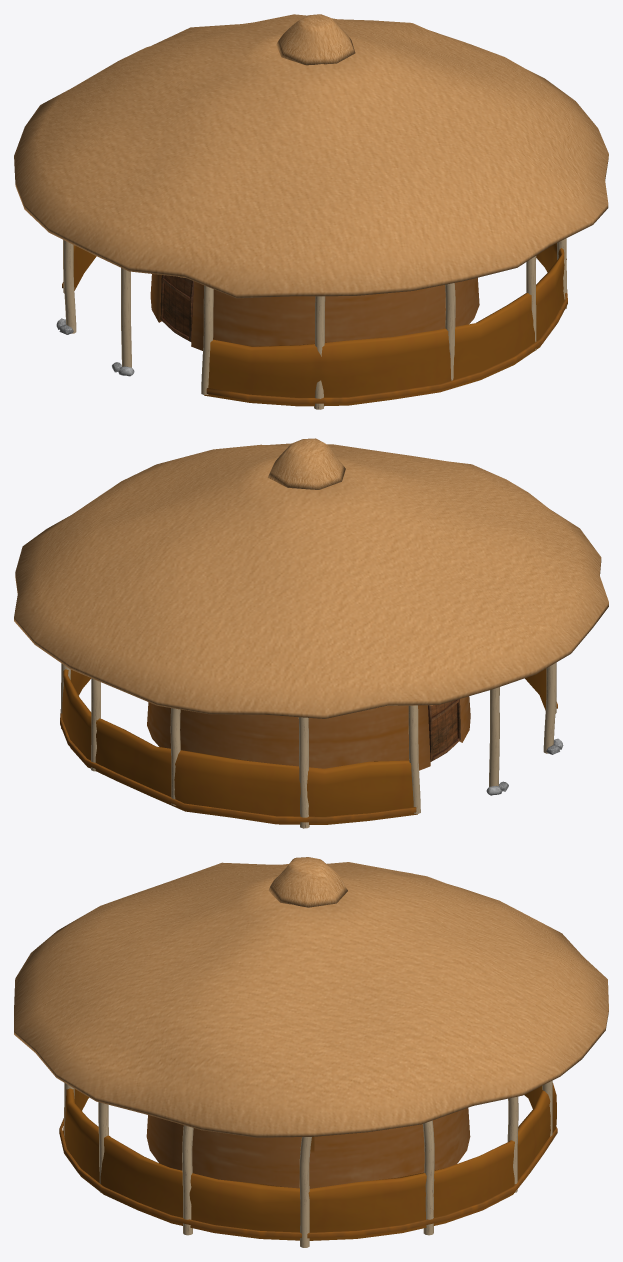
File: african house v2.fbx
The picture shows the model from 3 angles, top to bottom: view 1: azimuth 30°, elevation 25°; view 2: azimuth 150°, elevation 25°; view 3: azimuth 270°, elevation 25°; orthographic projection.
Visible parts, largest first — view 1: House; view 2: House; view 3: House.
Boxes of the visible parts, <box> form: House: <box>14,14,608,409</box>; House: <box>14,438,608,828</box>; House: <box>14,857,608,1247</box>.
Bounding box in the file's own units: 5.67 × 2.95 × 5.62.
